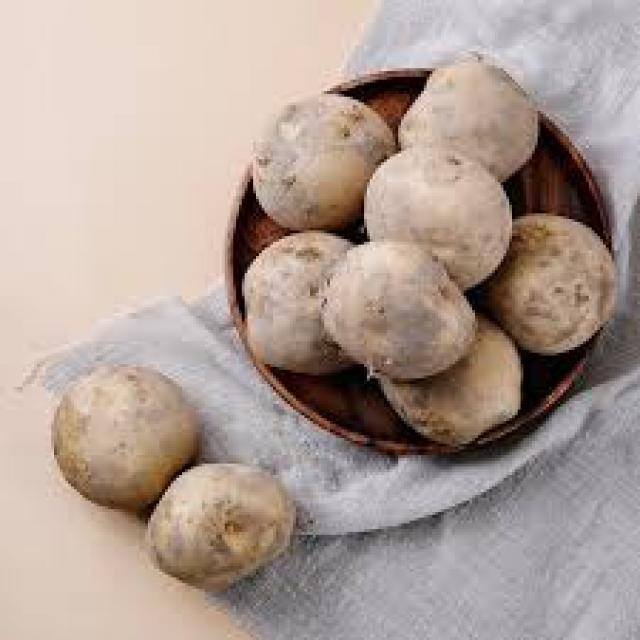Potato: (324, 242, 478, 381), (367, 148, 515, 290), (54, 367, 199, 511), (253, 94, 398, 230), (378, 316, 523, 447), (147, 466, 295, 592), (489, 216, 617, 356), (401, 60, 540, 182), (245, 233, 356, 375)
